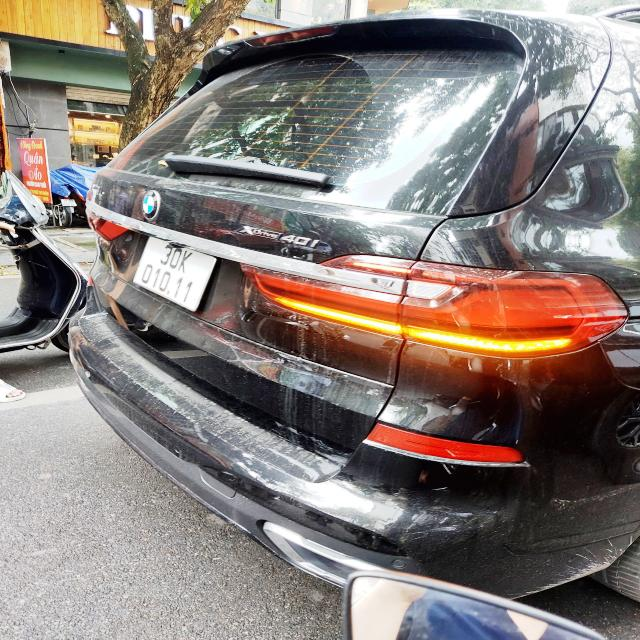license_plate: (132, 236, 219, 314)
